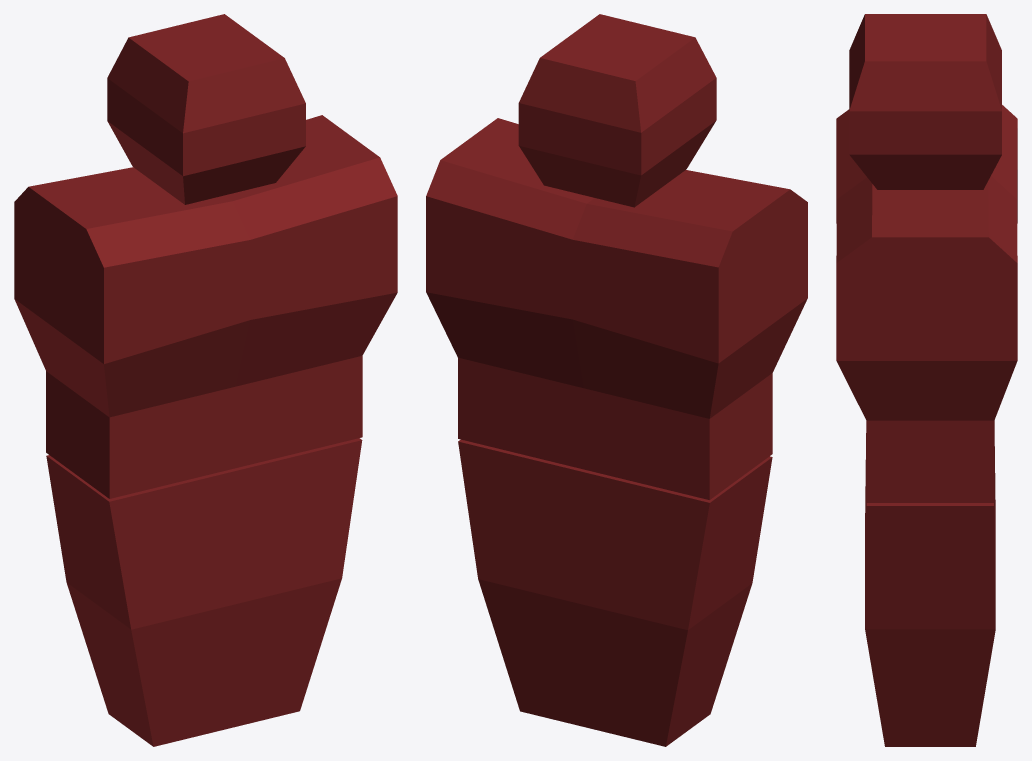
File: Target_Red.fbx
The picture shows the model from 3 angles, left to right: view 1: azimuth 30°, elevation 25°; view 2: azimuth 150°, elevation 25°; view 3: azimuth 270°, elevation 25°; orthographic projection.
Parts seen in each view (by area): view 1: Cube.004, Cube.003, Cube.005; view 2: Cube.004, Cube.003, Cube.005; view 3: Cube.004, Cube.003, Cube.005.
Part boxes in pixels (x1,y1,x2,y2): Cube.004: (14,115,397,498); Cube.003: (46,438,362,746); Cube.005: (107,14,305,204); Cube.004: (426,118,807,499); Cube.003: (458,439,772,746); Cube.005: (518,14,716,207); Cube.004: (836,105,1017,502); Cube.003: (865,420,995,746); Cube.005: (849,14,1001,189).
Size of the model in its own units: 175 by 380 by 92.66.
